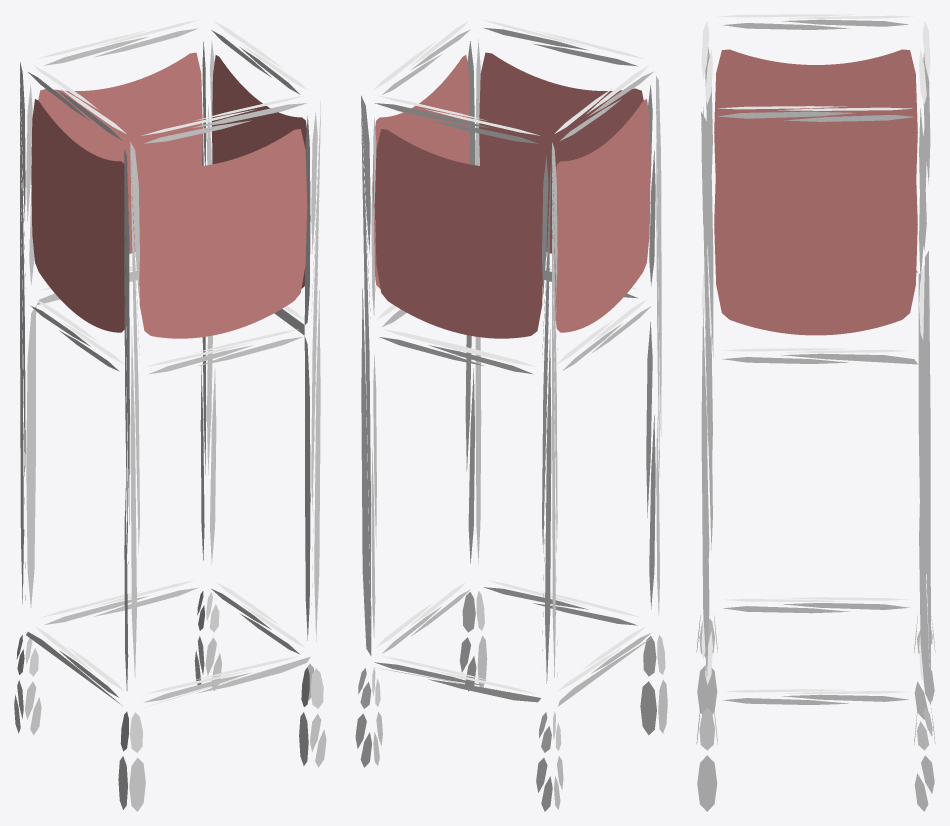
The model's file is banner_tower.glb.
3 renders of one model, left to right at view 1: azimuth 30°, elevation 25°; view 2: azimuth 150°, elevation 25°; view 3: azimuth 270°, elevation 25°, orthographic. The views are drawn at different scales.
Visible parts, largest first — view 1: banner_tower; view 2: banner_tower; view 3: banner_tower.
Part boxes in pixels (left/top/right/bottom): banner_tower: left=14, top=19, right=326, bottom=811; banner_tower: left=355, top=19, right=667, bottom=811; banner_tower: left=696, top=14, right=935, bottom=811.
Size of the model in its own units: 0.3852 by 1.24 by 0.3852.
